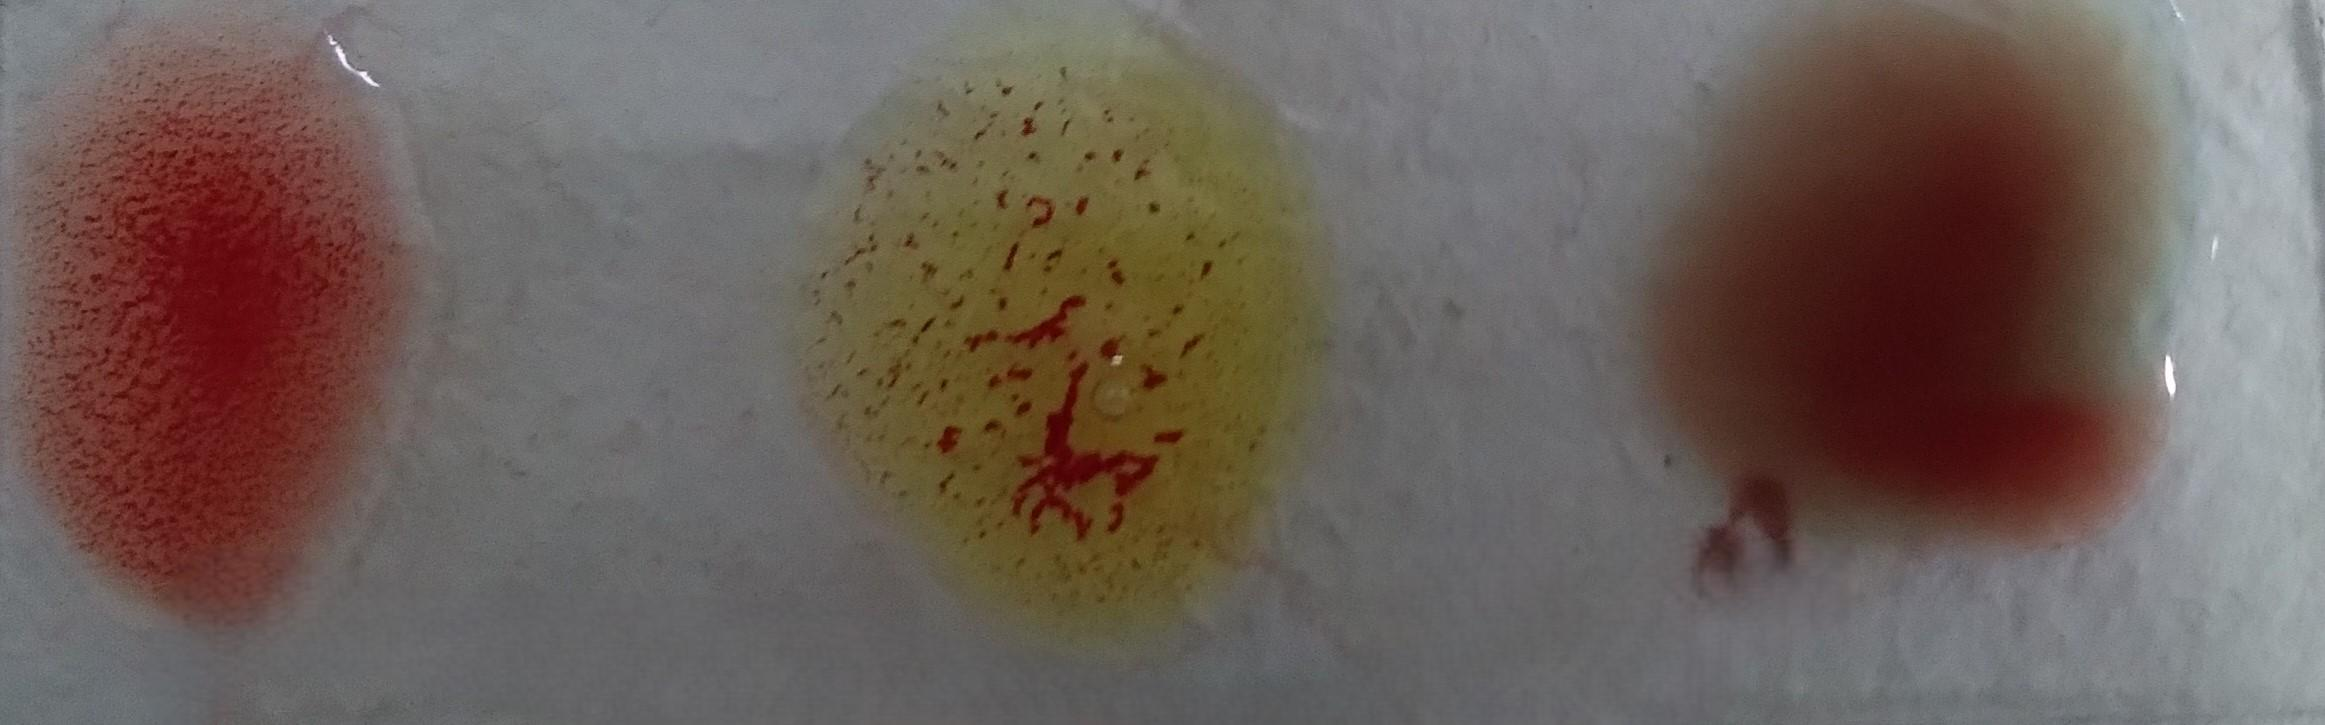B: (859, 39, 1275, 646)
D: (47, 21, 396, 632)
